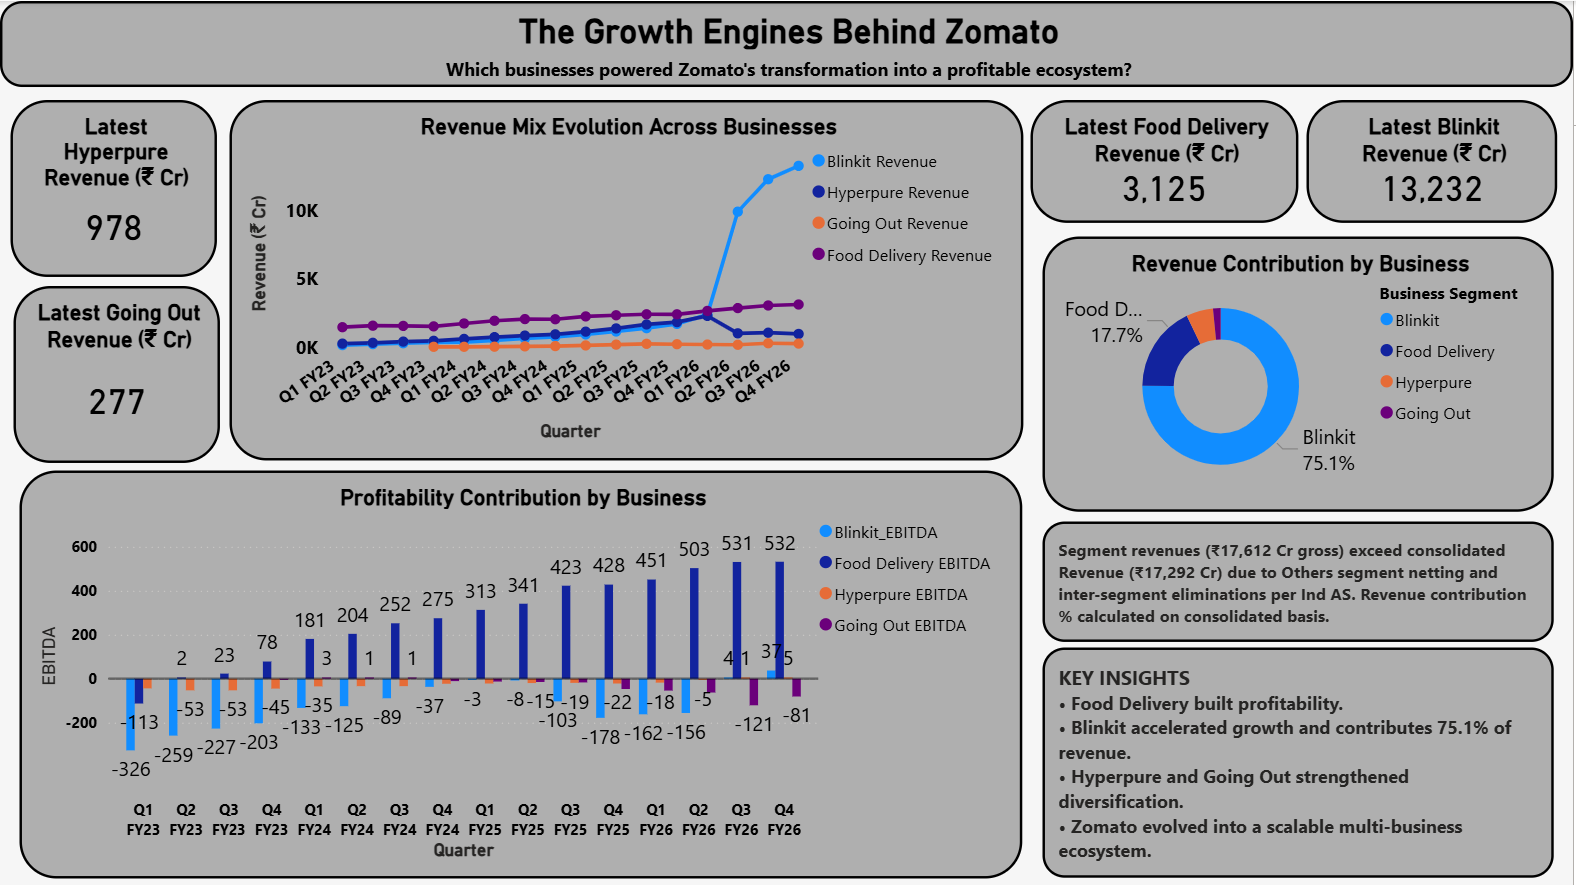

This screenshot's page, from the dashboard's own definition file:
{"tool":"powerbi","page":{"name":"Growth Engines","canvas":[1280,720],"ordinal":1},"visuals":[{"type":"textbox","title":"The Growth Engines Behind Zomato","box":[0,0,1280,70],"z":0},{"type":"card","title":"Latest Food Delivery Revenue (₹ Cr)","fields":{"Values":["public zomato_dashboard_view.Latest Food Delivery Revenue"]},"box":[839,80,218,100],"z":1000},{"type":"card","title":"Latest Blinkit Revenue (₹ Cr)","fields":{"Values":["public zomato_dashboard_view.Latest Blinkit Revenue"]},"box":[1063,80,204,100],"z":2000},{"type":"card","title":"Latest Hyperpure Revenue (₹ Cr)","fields":{"Values":["public zomato_dashboard_view.Latest Hyperpure Revenue"]},"box":[9,80,168,144],"z":3000},{"type":"card","title":"Latest Going Out Revenue (₹ Cr)","fields":{"Values":["public zomato_dashboard_view.Latest Going Out Revenue"]},"box":[11,232,168,144],"z":4000},{"type":"lineChart","title":"Revenue Mix Evolution Across Businesses","fields":{"Category":["public zomato_dashboard_view.quarter"],"Y":["Sum(public zomato_dashboard_view.blinkit_revenue)","Sum(public zomato_dashboard_view.hyperpure_revenue)","Sum(public zomato_dashboard_view.goingout_revenue)","Sum(public zomato_dashboard_view.food_delivery_revenue)"]},"box":[187,80,646,293],"z":5000},{"type":"donutChart","title":"Revenue Contribution by Business","fields":{"Category":["Revenue_Mix.Business Segment"],"Y":["Sum(Revenue_Mix.Revenue)"]},"box":[848,192,416,224],"z":6000},{"type":"clusteredColumnChart","title":"Profitability Contribution by Business","fields":{"Category":["public zomato_dashboard_view.quarter"],"Y":["Sum(public zomato_dashboard_view.blinkit_ebitda)","Sum(public zomato_dashboard_view.food_delivery_ebitda)","Sum(public zomato_dashboard_view.hyperpure_ebitda)","Sum(public zomato_dashboard_view.goingout_ebitda)"]},"box":[16,382,816,332],"z":7000},{"type":"textbox","box":[848,526,416,187],"z":8000},{"type":"textbox","box":[848,423,416,98],"z":8001}]}

Visuals, with their boxes in screenshot pixels (x1, y1, x2, y2), scaled from the page's 1280x720 canvas onto the 1576x885 screenshot:
"The Growth Engines Behind Zomato" textbox: bbox=[0, 0, 1575, 86]
"Latest Food Delivery Revenue (₹ Cr)" card: bbox=[1033, 98, 1301, 221]
"Latest Blinkit Revenue (₹ Cr)" card: bbox=[1309, 98, 1560, 221]
"Latest Hyperpure Revenue (₹ Cr)" card: bbox=[11, 98, 218, 275]
"Latest Going Out Revenue (₹ Cr)" card: bbox=[14, 285, 220, 462]
"Revenue Mix Evolution Across Businesses" lineChart: bbox=[230, 98, 1026, 458]
"Revenue Contribution by Business" donutChart: bbox=[1044, 236, 1556, 511]
"Profitability Contribution by Business" clusteredColumnChart: bbox=[20, 470, 1024, 878]
textbox: bbox=[1044, 647, 1556, 876]
textbox: bbox=[1044, 520, 1556, 640]
